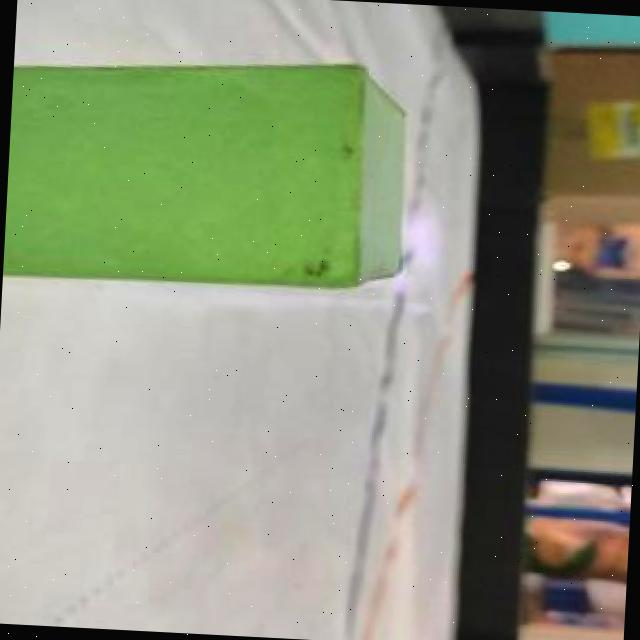greenbox: (1, 40, 422, 302)
